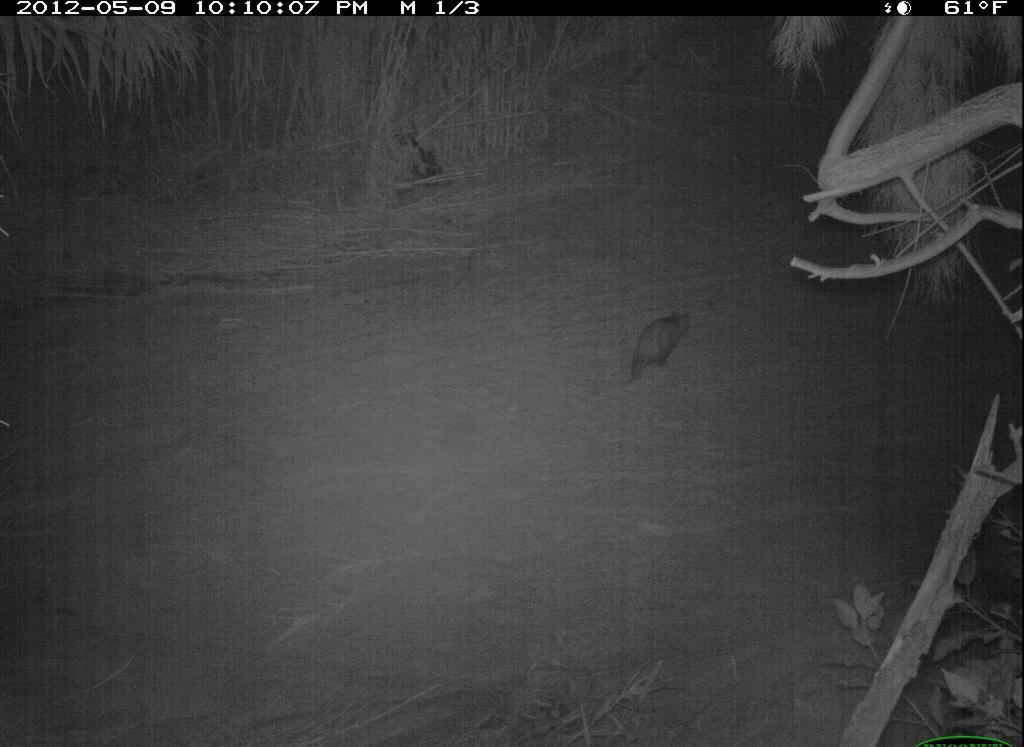opossum: (609, 300, 712, 390)
